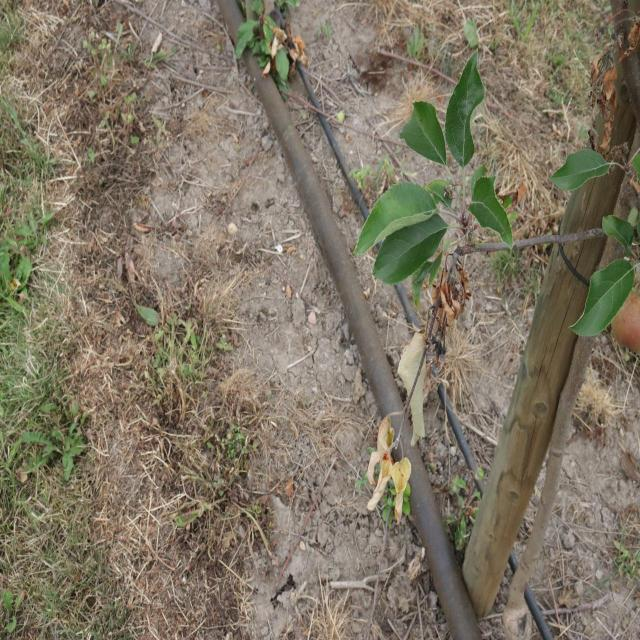-FireBlight-: (423, 266, 470, 335)
